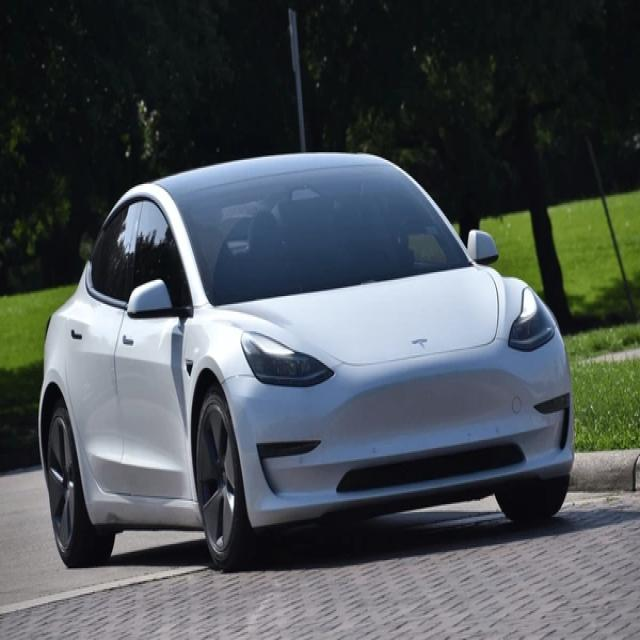tesla: (412, 333, 429, 353)
